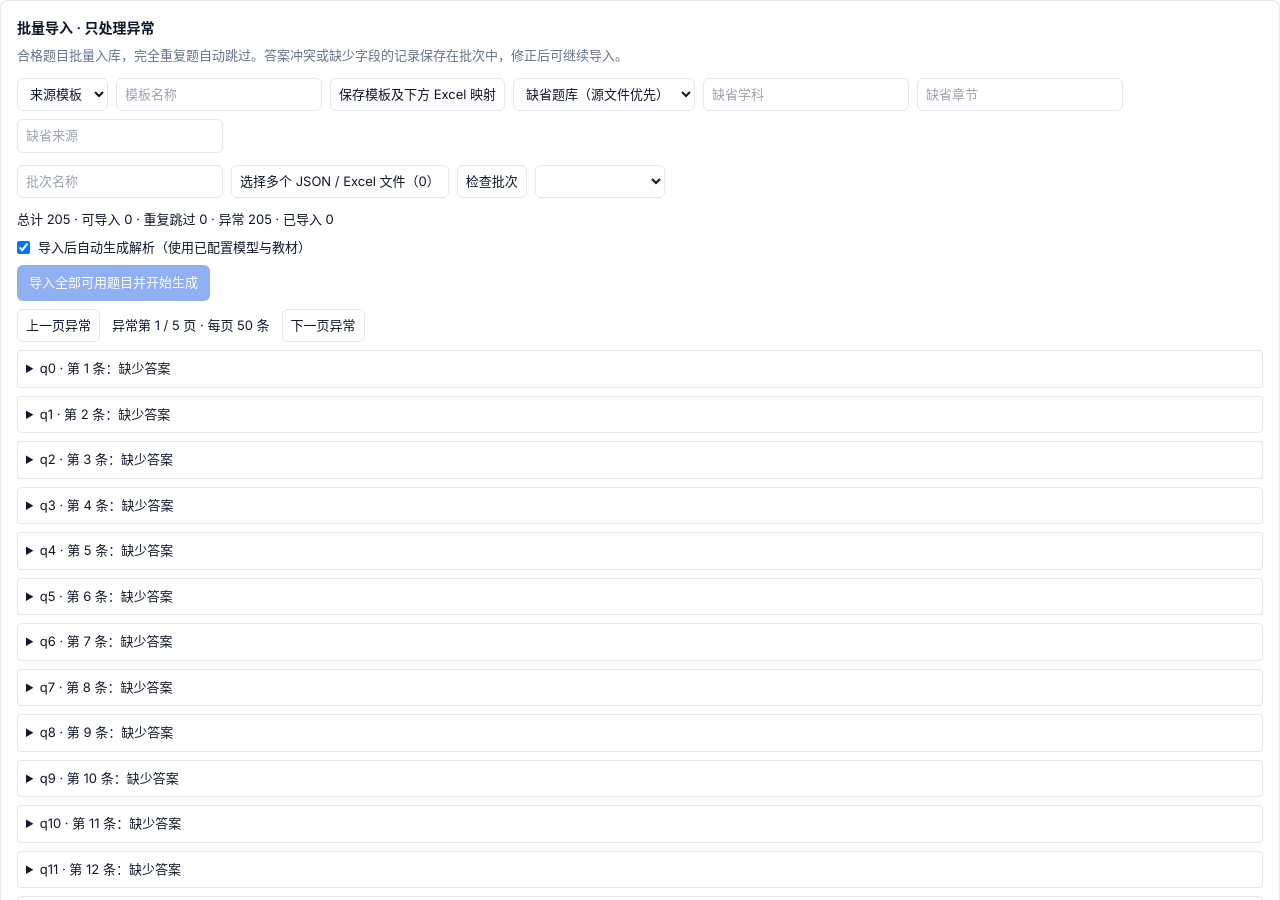
Test: 超过 200 条异常可以翻页查看尾部
Click the button "下一页异常" at (323, 325), box [282,308,365,342]
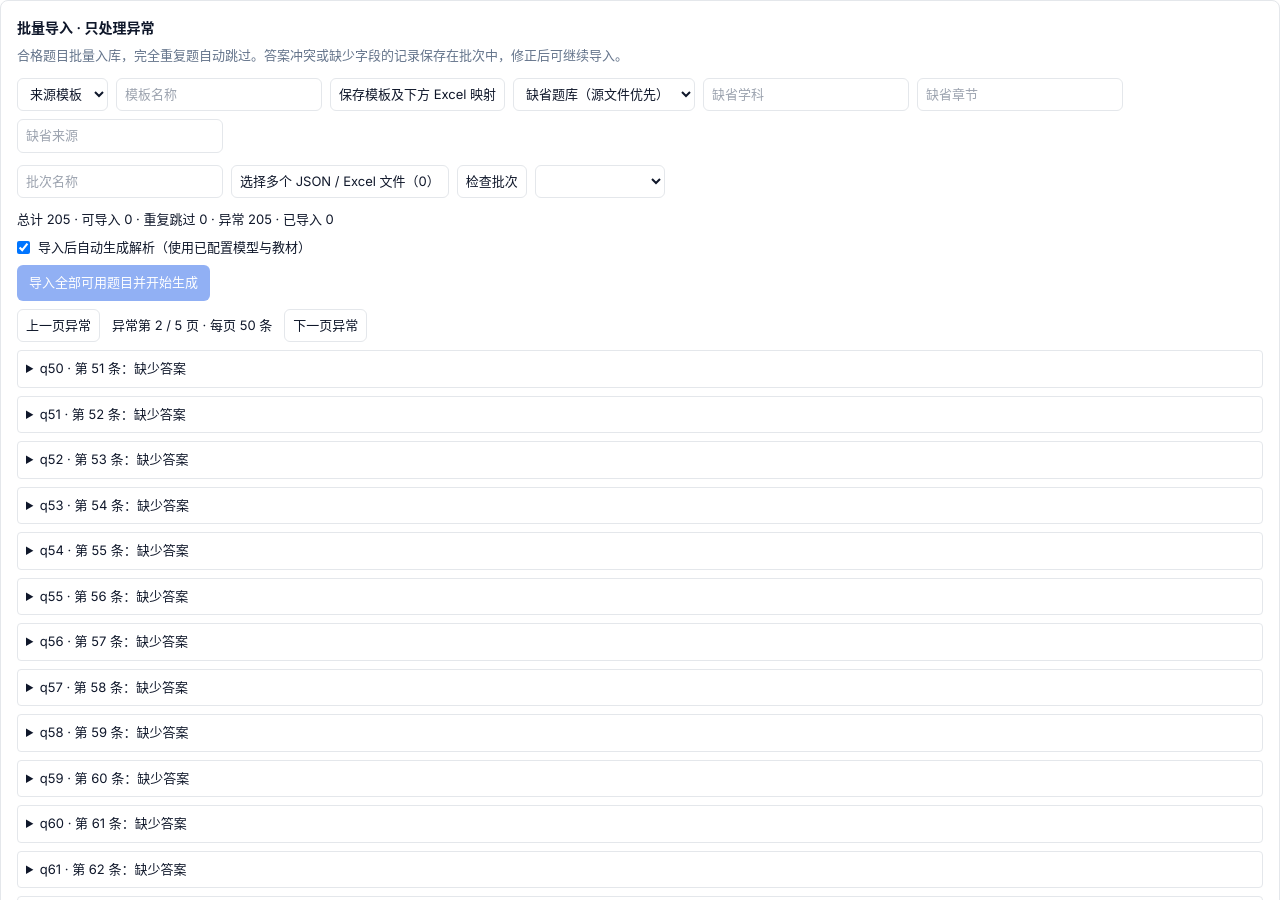
Click the button "下一页异常" at (326, 325), box [284,308,367,342]
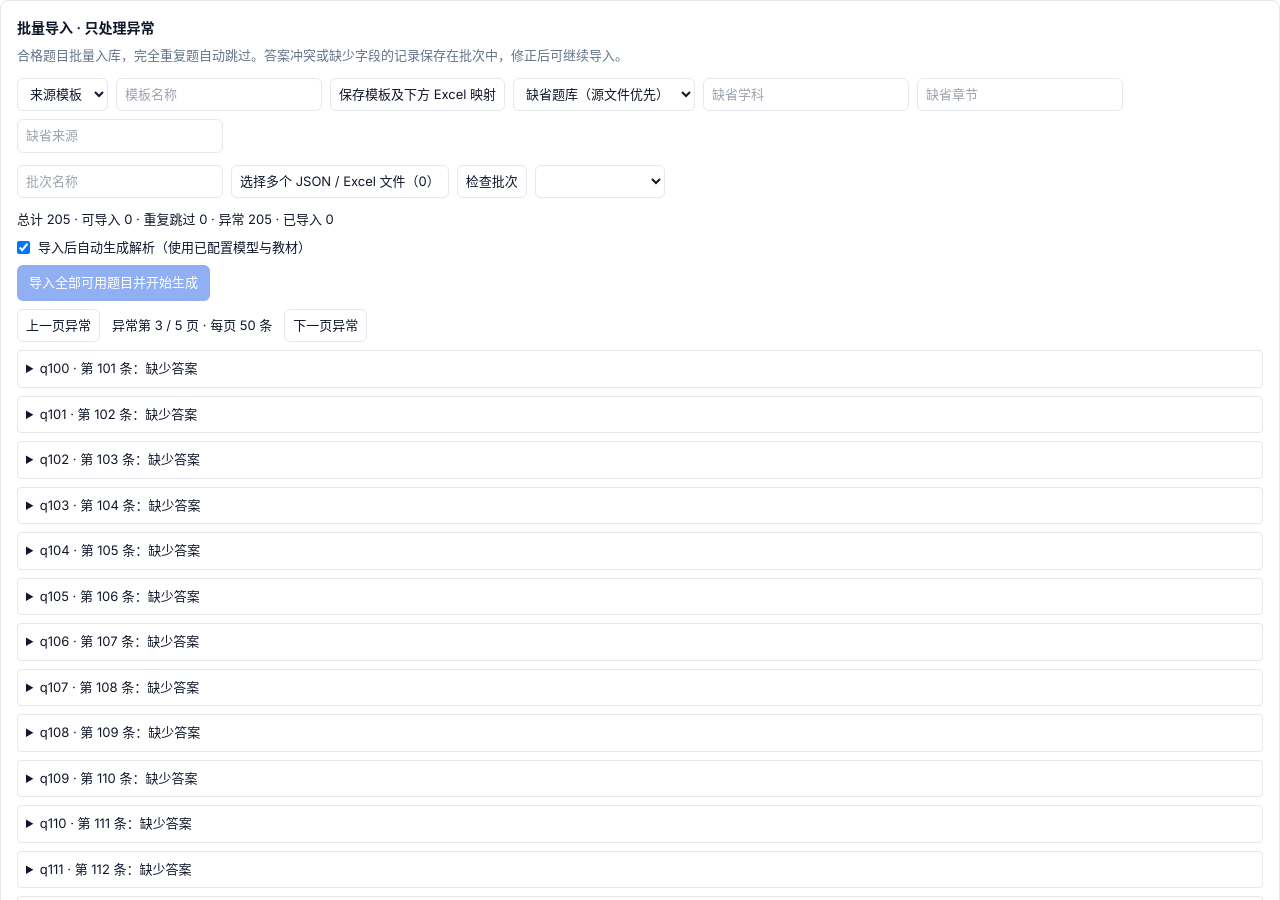
Click the button "下一页异常" at (326, 325), box [284,308,367,342]
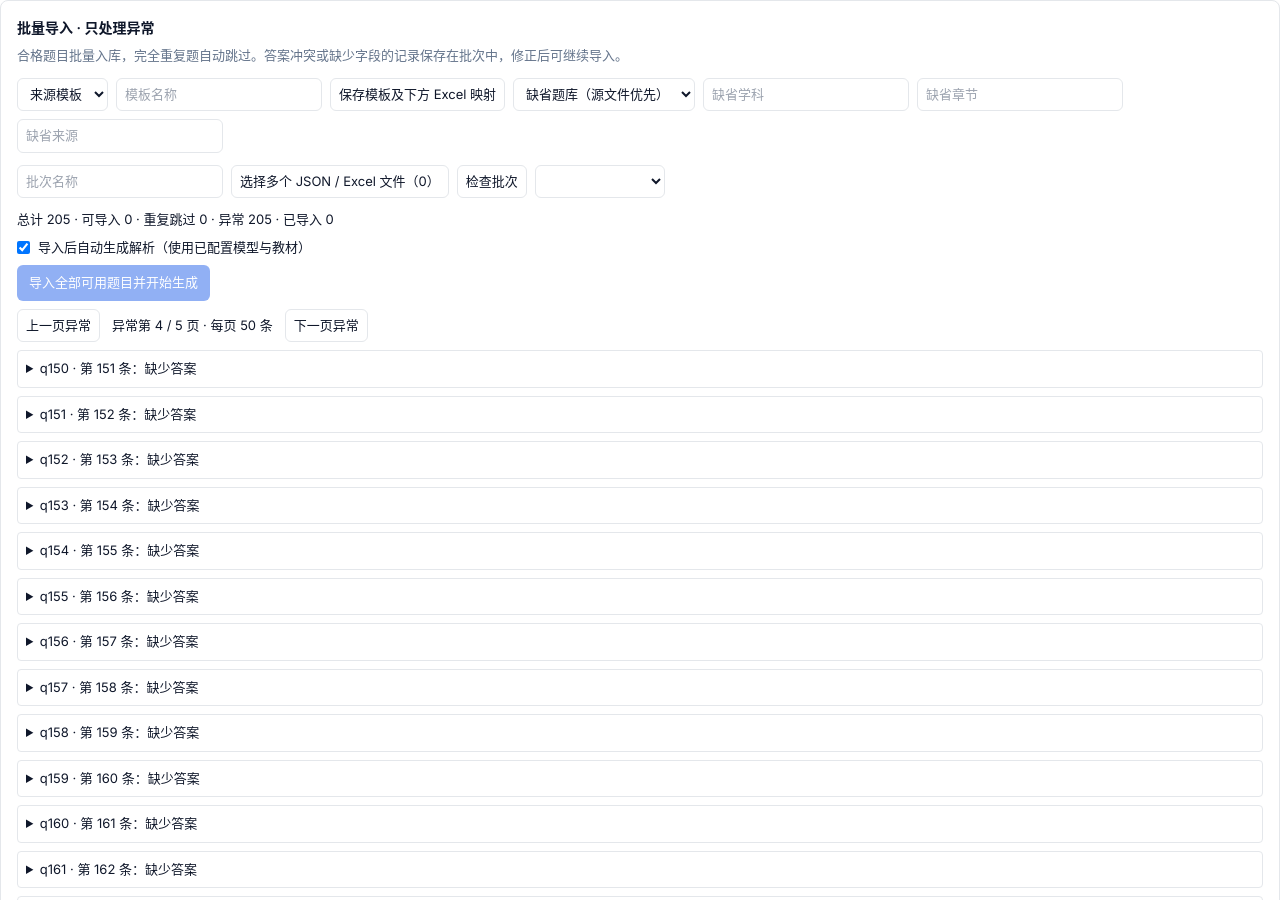
Click the button "下一页异常" at (326, 325), box [285,308,368,342]
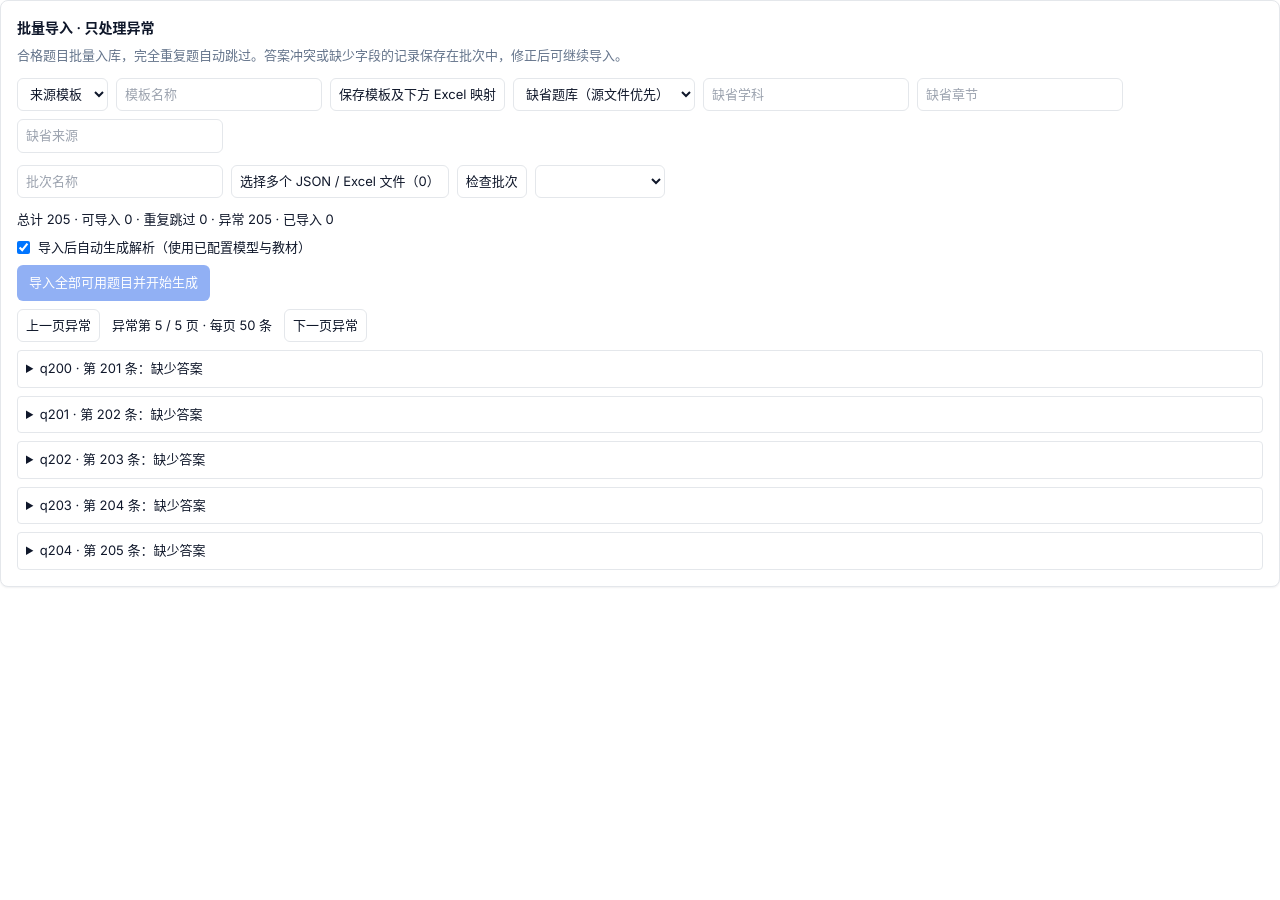
Check: the text "q204" is shown, box [40,542,206,558]
